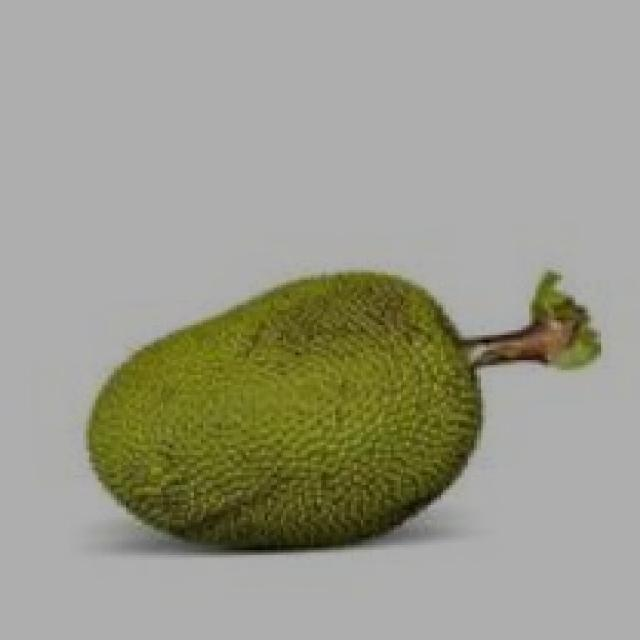Fruit: (92, 255, 502, 575)
